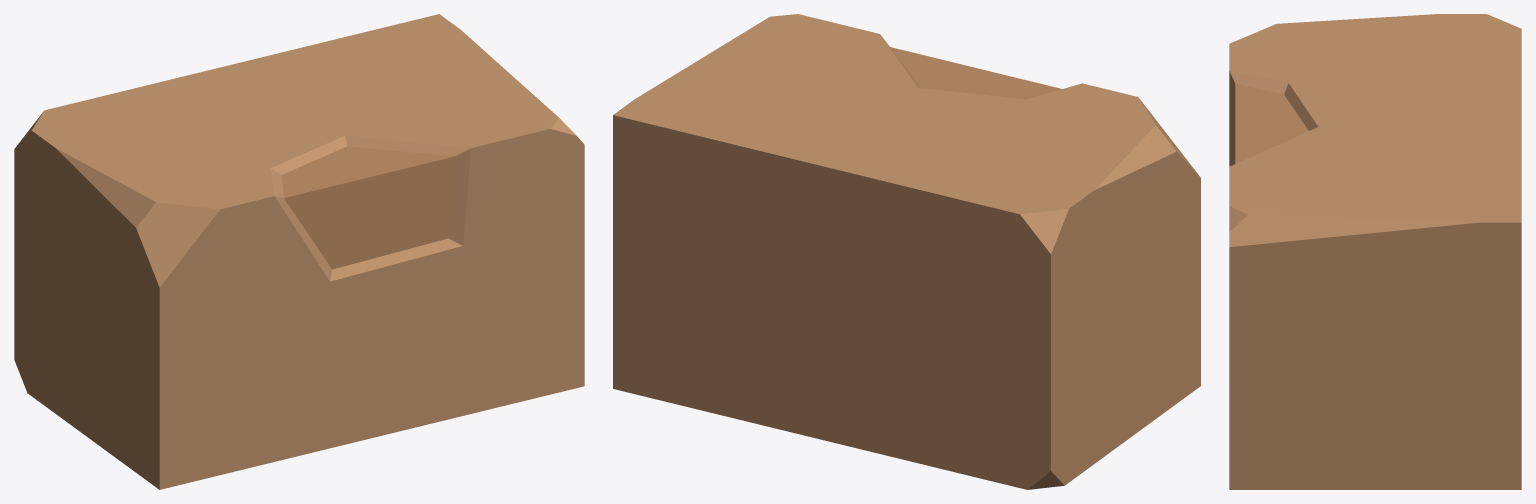
File: Block_02.fbx
3 views of the same model, side by side, from view 1: azimuth 30°, elevation 25°; view 2: azimuth 150°, elevation 25°; view 3: azimuth 270°, elevation 25° (orthographic). The views are drawn at different scales.
Visible parts, largest first — view 1: Block_02; view 2: Block_02; view 3: Block_02.
Part boxes in pixels (left/top/right/bottom): Block_02: left=14, top=14, right=584, bottom=489; Block_02: left=613, top=14, right=1200, bottom=489; Block_02: left=1229, top=14, right=1521, bottom=489.
Bounding box in the file's own units: 31.15 × 18.61 × 18.46.
